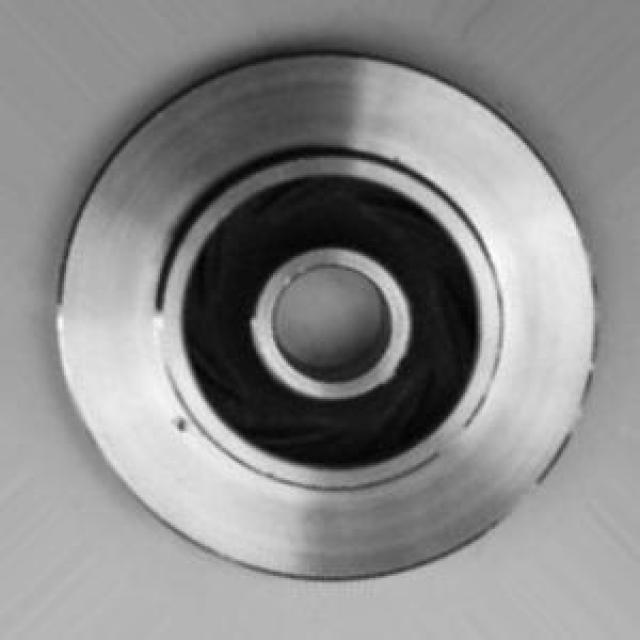Defect: (173, 414, 194, 439)
